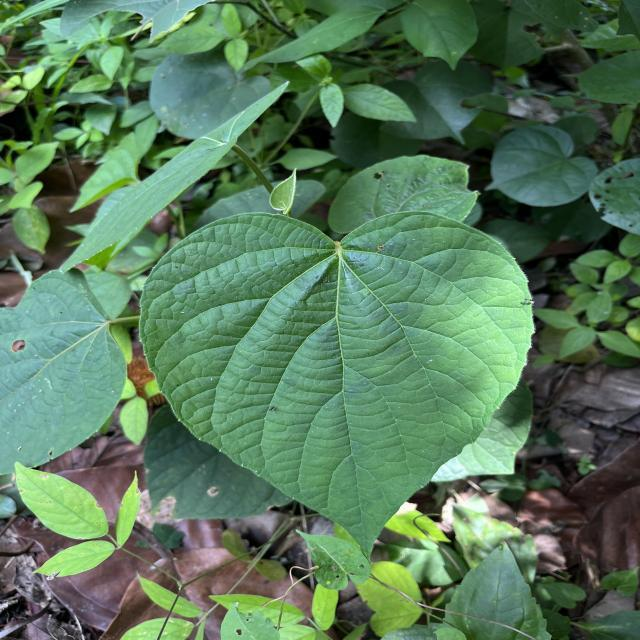Clerodendrum infortunatum: (137, 208, 540, 568)
